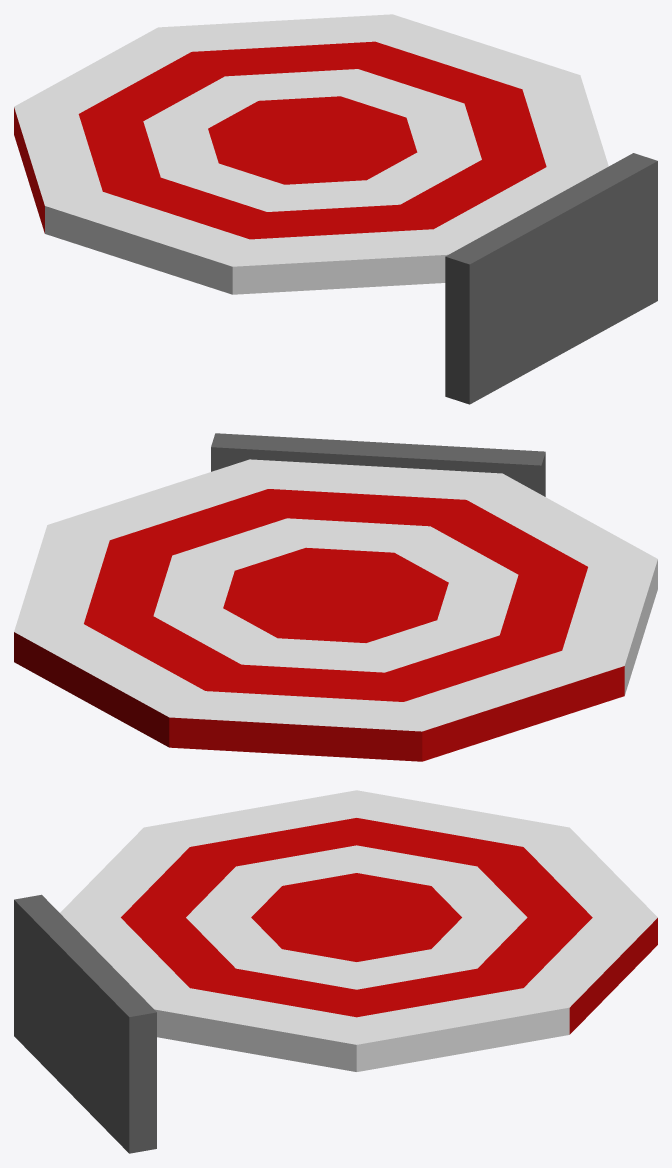
The model's file is Target.fbx.
3 renders of one model, top to bottom at view 1: azimuth 30°, elevation 25°; view 2: azimuth 150°, elevation 25°; view 3: azimuth 270°, elevation 25°, orthographic. The views are drawn at different scales.
Visible parts, largest first — view 1: Cylinder, Stand; view 2: Cylinder, Stand; view 3: Cylinder, Stand.
Boxes of the visible parts, x1,y1,x2,y2 form: Cylinder: (14,14,608,294); Stand: (445,153,657,404); Cylinder: (14,459,657,761); Stand: (211,433,545,496); Cylinder: (60,790,657,1071); Stand: (14,894,156,1153).
Size of the model in its own units: 20 by 5 by 21.38.
